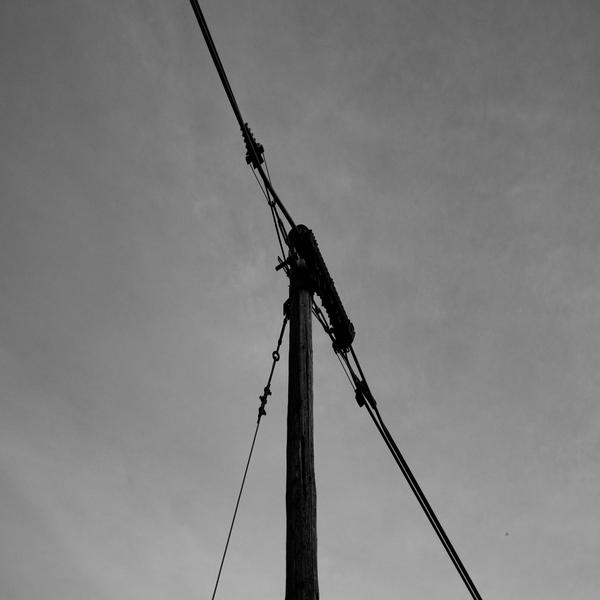utility_pole: (261, 210, 363, 412)
